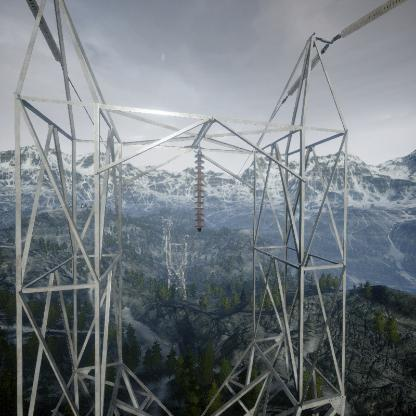insulator: (338, 0, 404, 38), (26, 0, 62, 64), (286, 50, 324, 97), (191, 151, 206, 232)
tower: (162, 233, 192, 303)
